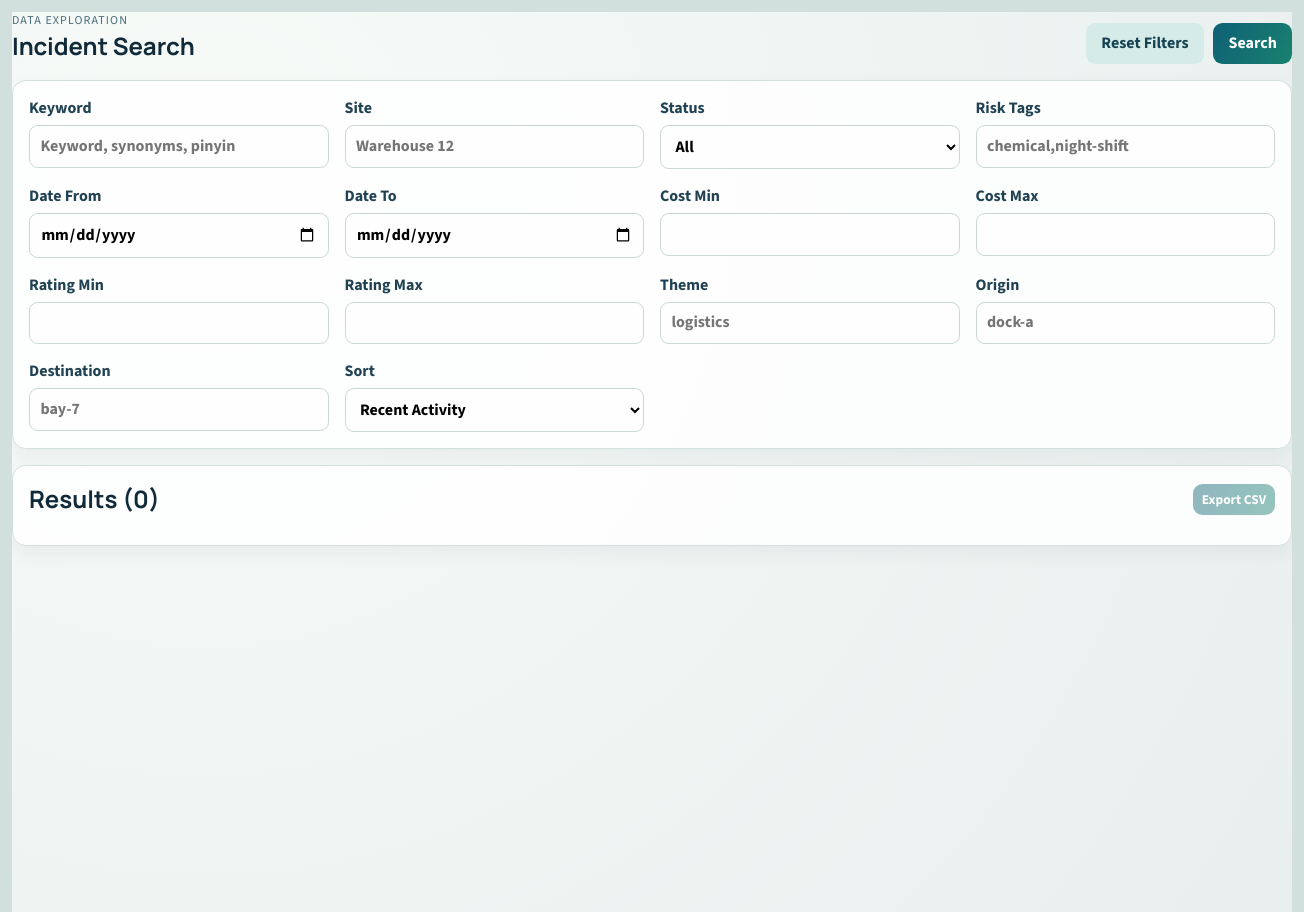
Test: Search.vue › shows error message on search failure
Click the button "Search". click: [1253, 44]
box: x1=1213 y1=23 x2=1292 y2=64
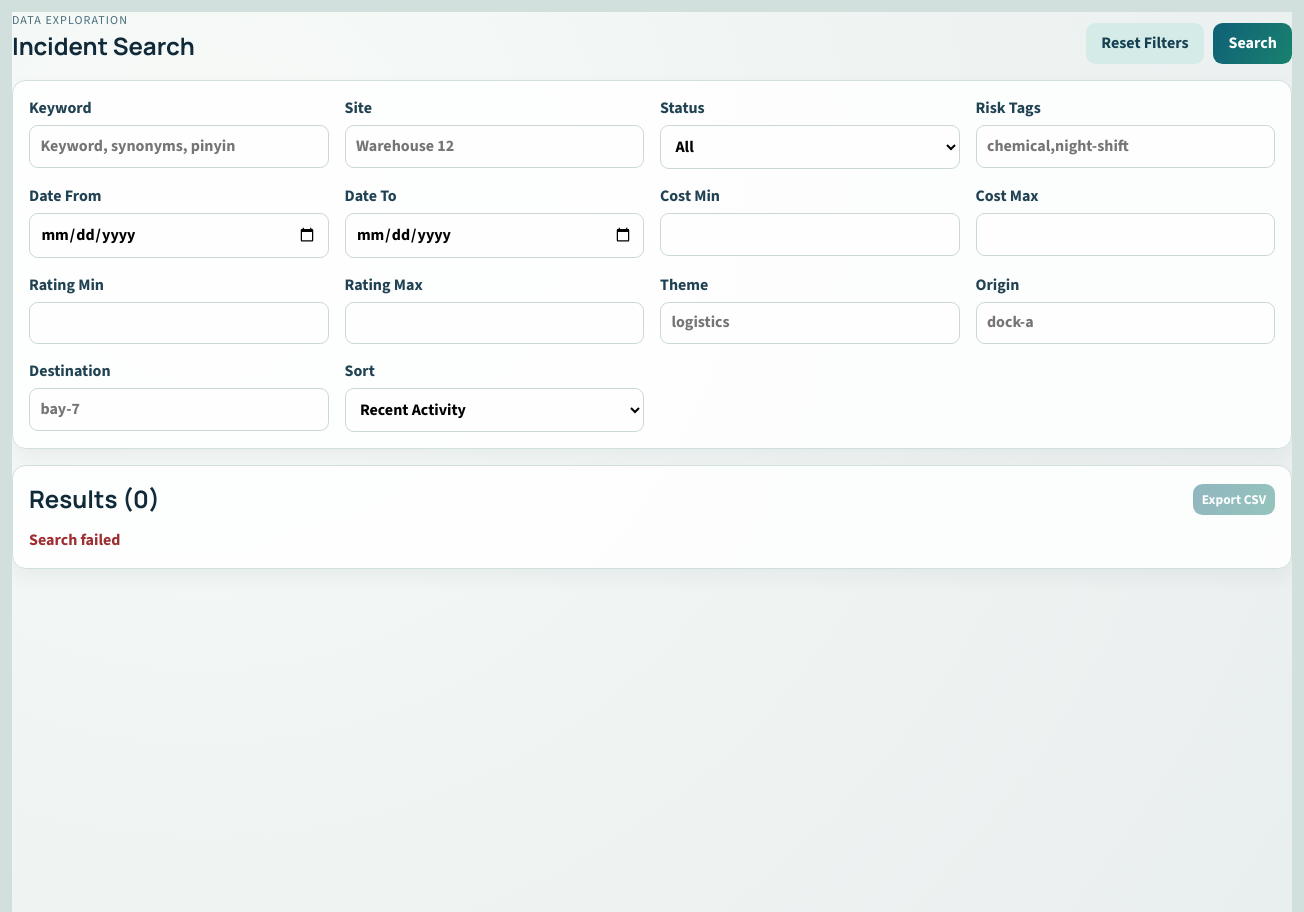
Expected: the text with class "error" reads "Search failed", x1=29 y1=529 x2=120 y2=551
